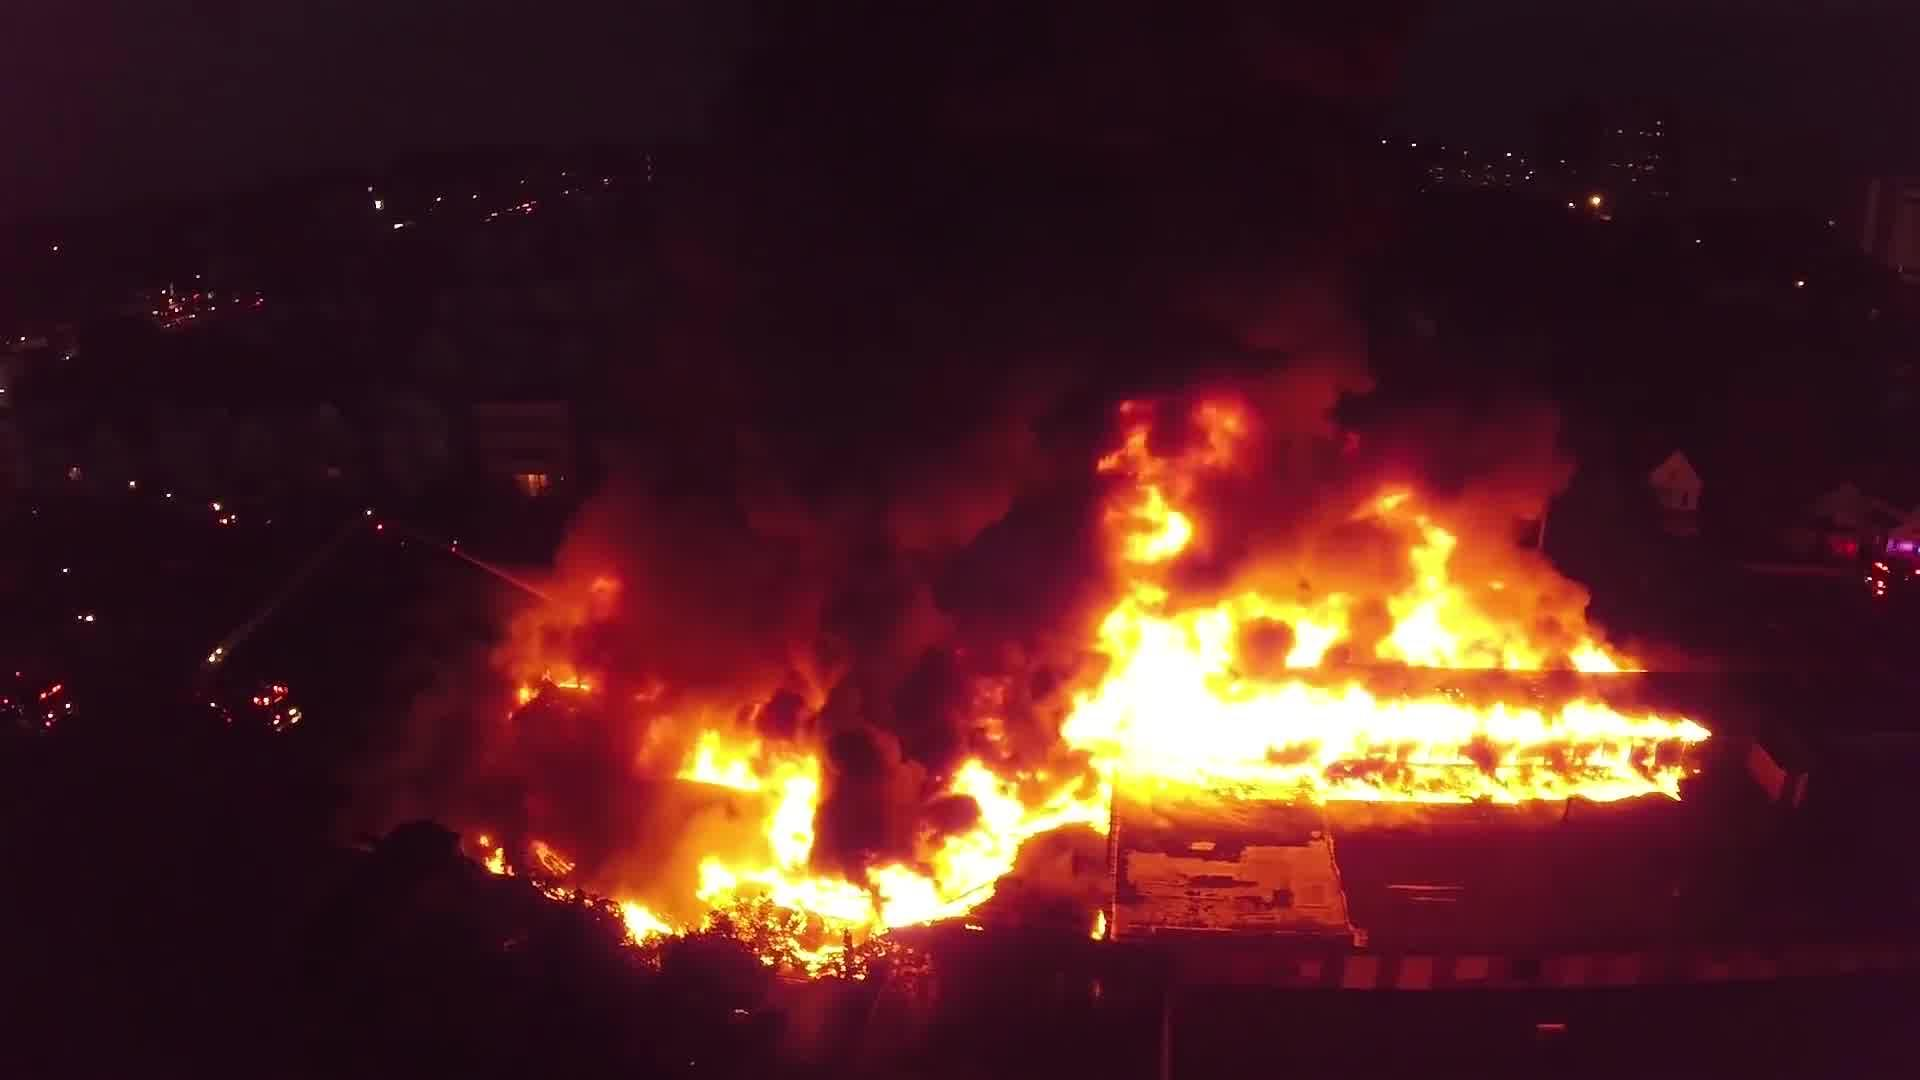fire: (477, 388, 1741, 967)
